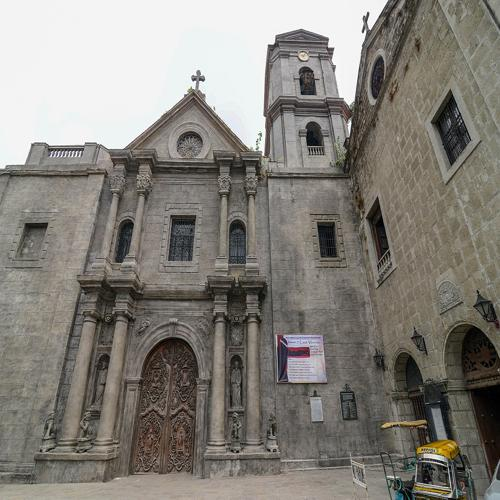San Agustin Church: (95, 11, 378, 482)
